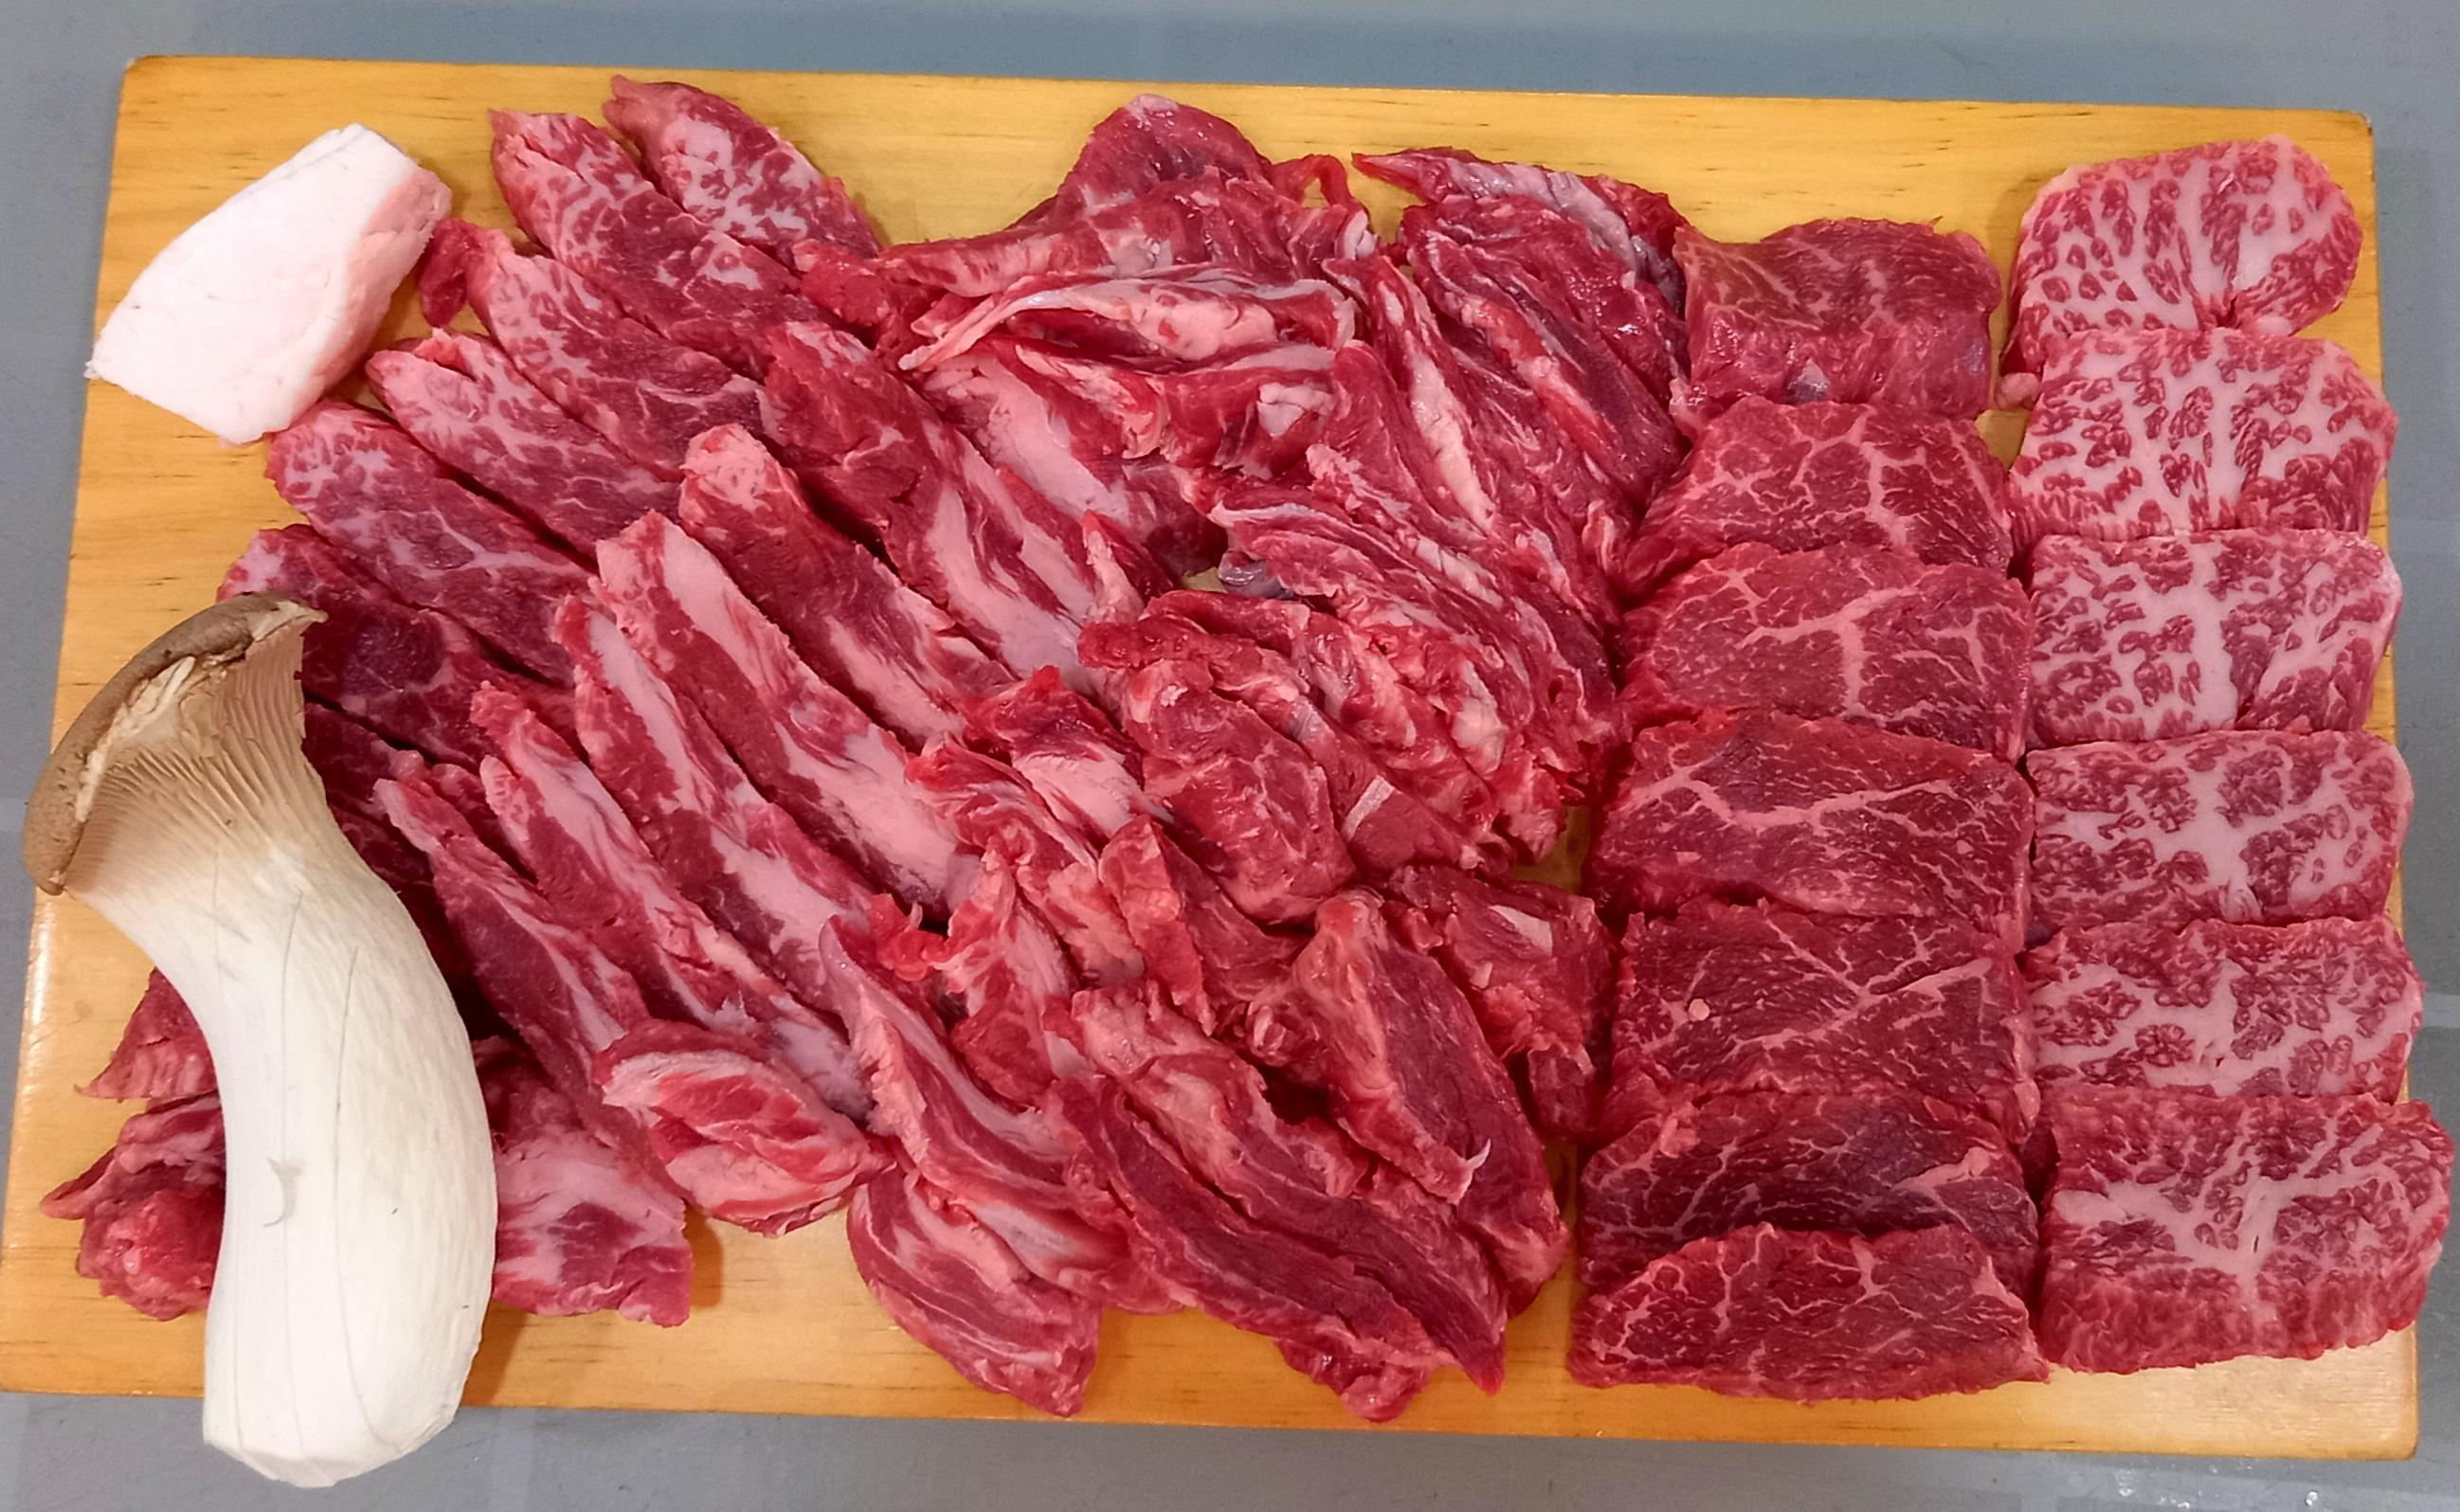beef: (1743, 848, 2460, 1343), (1789, 358, 2460, 868), (1724, 950, 2460, 1410), (1624, 1226, 2460, 1512), (1632, 1287, 2460, 1512), (1722, 1275, 2460, 1512)
